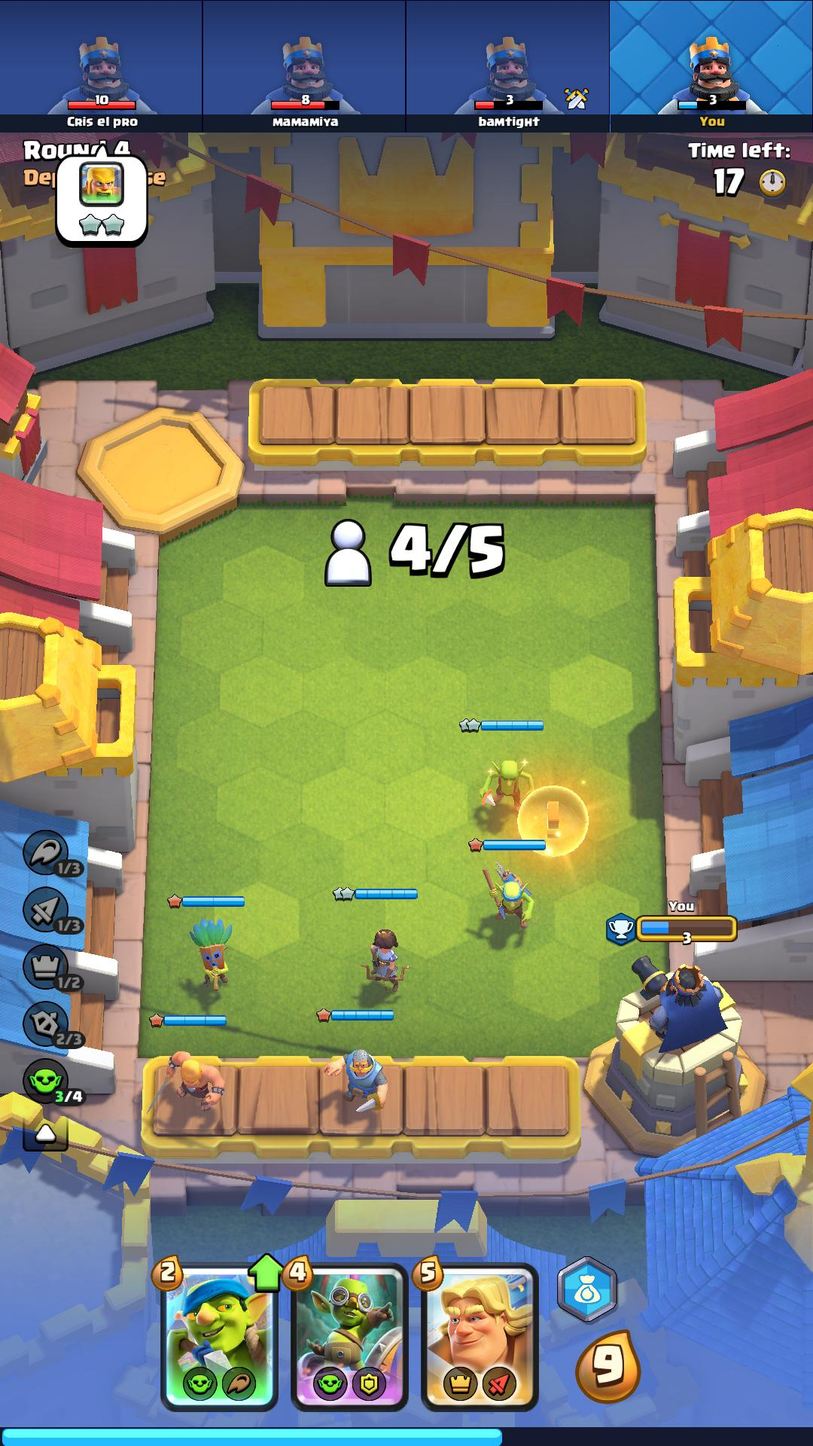barbarian: (147, 1046, 228, 1119)
dart: (186, 912, 237, 993)
goblin: (473, 861, 539, 928), (478, 756, 535, 809)
hand-golden: (423, 1267, 536, 1409)
hand-machine: (292, 1266, 405, 1405)
hand-spear: (162, 1265, 276, 1408)
knight: (320, 1047, 398, 1121)
orb: (518, 784, 589, 857)
princess: (359, 926, 409, 991)
upgrade: (244, 1252, 288, 1293)
